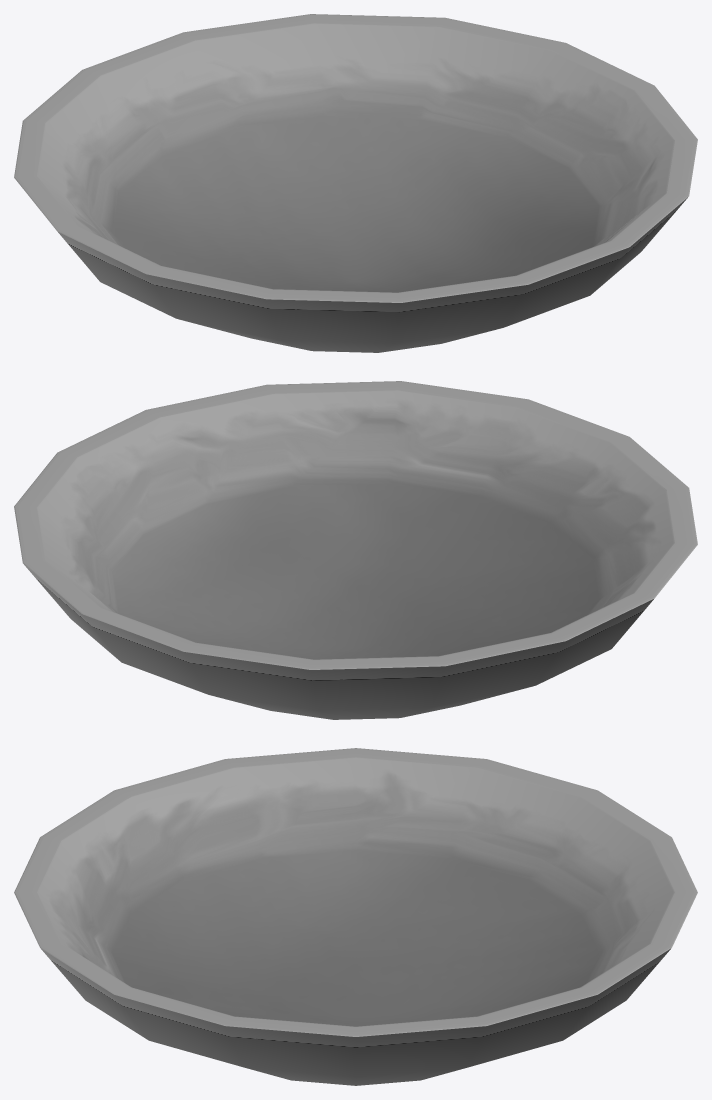
Rendered from FountainTopV2.fbx.
The picture shows the model from 3 angles, top to bottom: view 1: azimuth 30°, elevation 25°; view 2: azimuth 150°, elevation 25°; view 3: azimuth 270°, elevation 25°; orthographic projection.
Parts seen in each view (by area): view 1: TopV2; view 2: TopV2; view 3: TopV2.
Boxes of the visible parts, x1,y1,x2,y2 form: TopV2: (14,14,697,352); TopV2: (14,381,697,719); TopV2: (14,748,697,1085).
Bounding box in the file's own units: 120 × 23.62 × 120.
